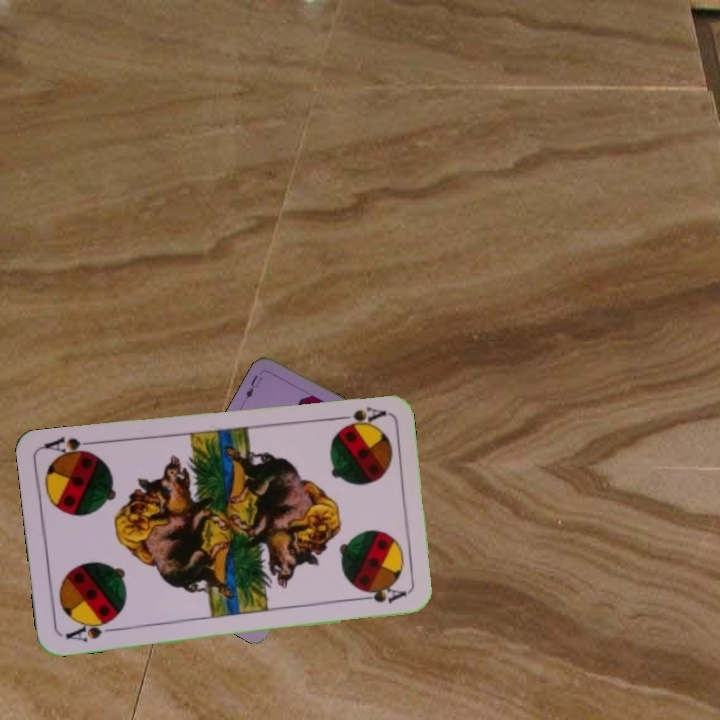EU: (242, 370, 265, 401)
SA: (61, 615, 120, 645), (329, 402, 388, 430)
